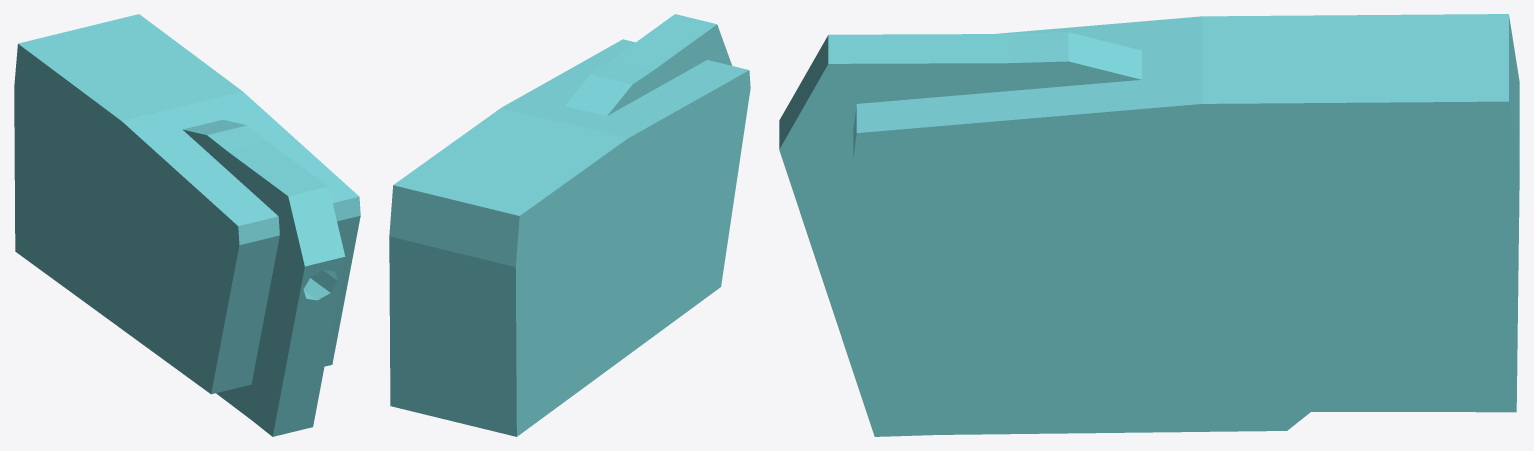
The model's file is Barrel_Maliwan.glb.
3 views of the same model, side by side, from view 1: azimuth 30°, elevation 25°; view 2: azimuth 150°, elevation 25°; view 3: azimuth 270°, elevation 25° (orthographic). The views are drawn at different scales.
Visible parts, largest first — view 1: Barrel.Maliwan; view 2: Barrel.Maliwan; view 3: Barrel.Maliwan.
Boxes of the visible parts, bbox=[...] form: Barrel.Maliwan: bbox=[14, 14, 360, 436]; Barrel.Maliwan: bbox=[389, 14, 750, 436]; Barrel.Maliwan: bbox=[779, 14, 1519, 436].
Size of the model in its own units: 0.1566 by 0.3131 by 0.5596.
